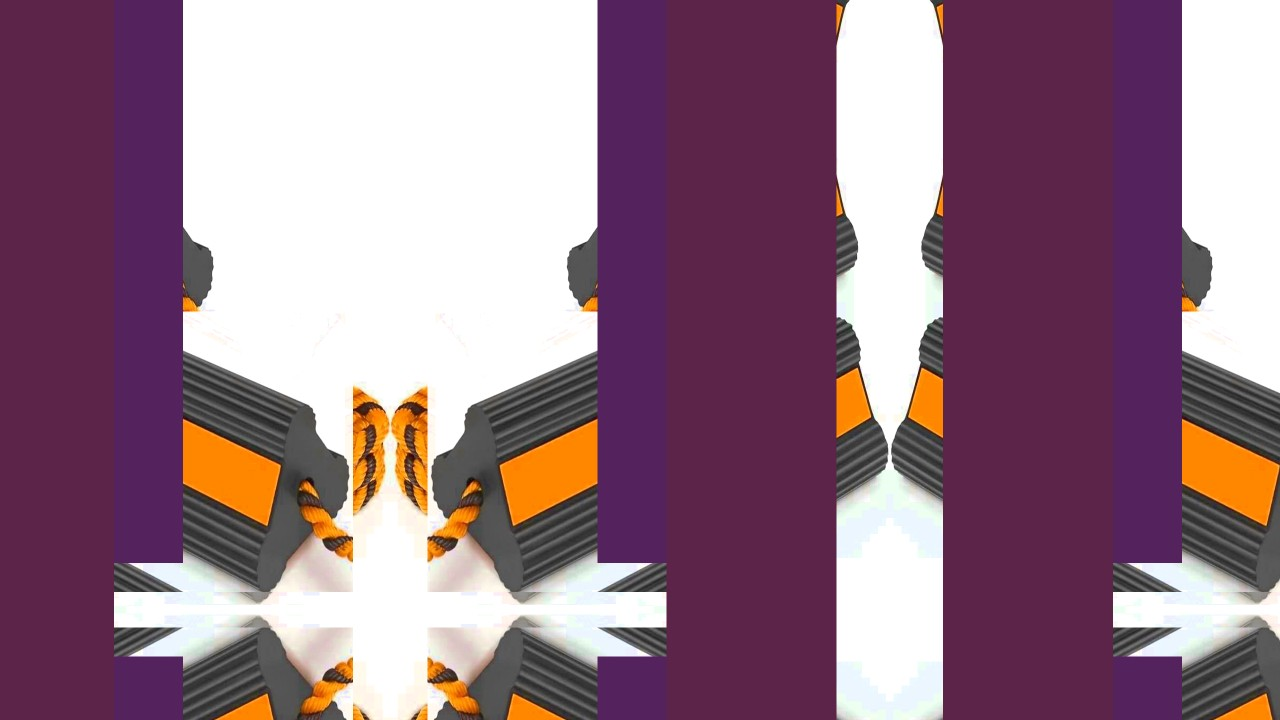chock: (38, 312, 352, 592), (428, 312, 742, 592), (46, 313, 344, 605), (436, 313, 734, 605), (597, 314, 890, 599), (890, 314, 1183, 599), (564, 112, 859, 376), (921, 112, 1216, 376), (1046, 313, 1280, 605), (1038, 312, 1280, 592), (0, 112, 216, 376), (0, 314, 183, 599), (564, 0, 859, 108), (921, 0, 1216, 108), (46, 615, 344, 720), (436, 615, 734, 720), (597, 621, 890, 720), (890, 621, 1183, 720), (38, 628, 352, 720), (428, 628, 742, 720), (1046, 615, 1280, 720), (0, 0, 216, 108), (1038, 628, 1280, 720), (0, 621, 183, 720)
